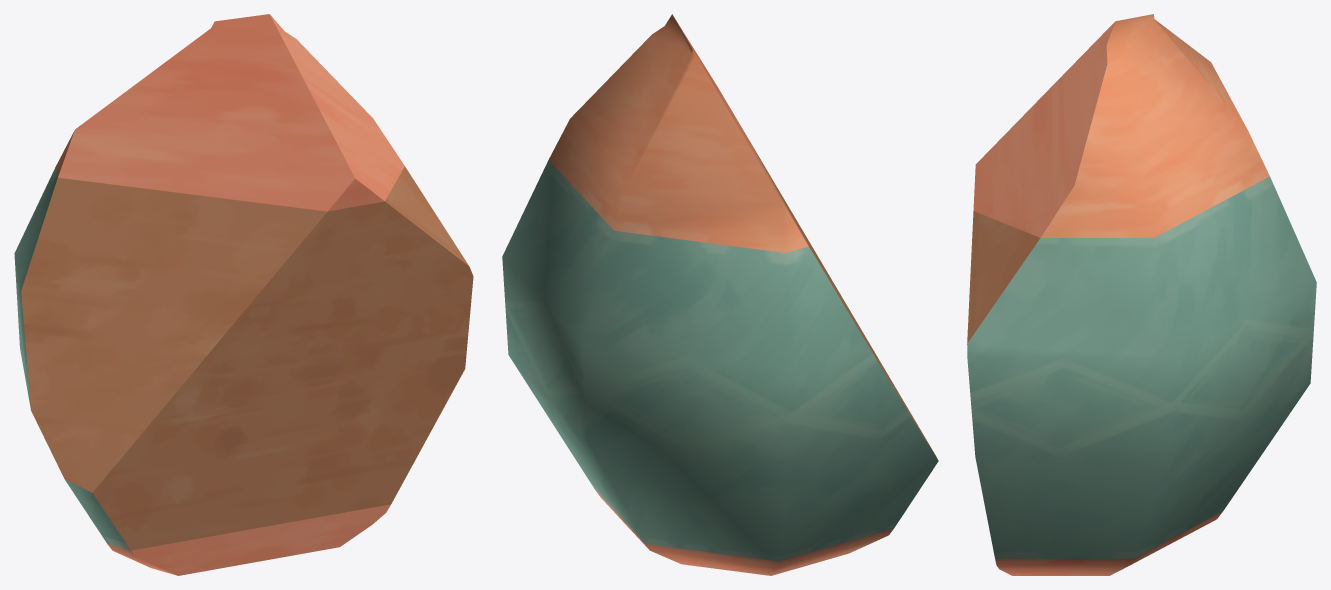
The model's file is vase_s03.fbx.
3 views of the same model, side by side, from view 1: azimuth 30°, elevation 25°; view 2: azimuth 150°, elevation 25°; view 3: azimuth 270°, elevation 25° (orthographic). The views are drawn at different scales.
Parts seen in each view (by area): view 1: vase_s03; view 2: vase_s03; view 3: vase_s03.
Boxes of the visible parts, box(x1,y1,x2,y2) form: vase_s03: box(14, 14, 473, 575); vase_s03: box(502, 14, 938, 575); vase_s03: box(967, 14, 1316, 575).
Size of the model in its own units: 1.45 by 1.86 by 1.09.
